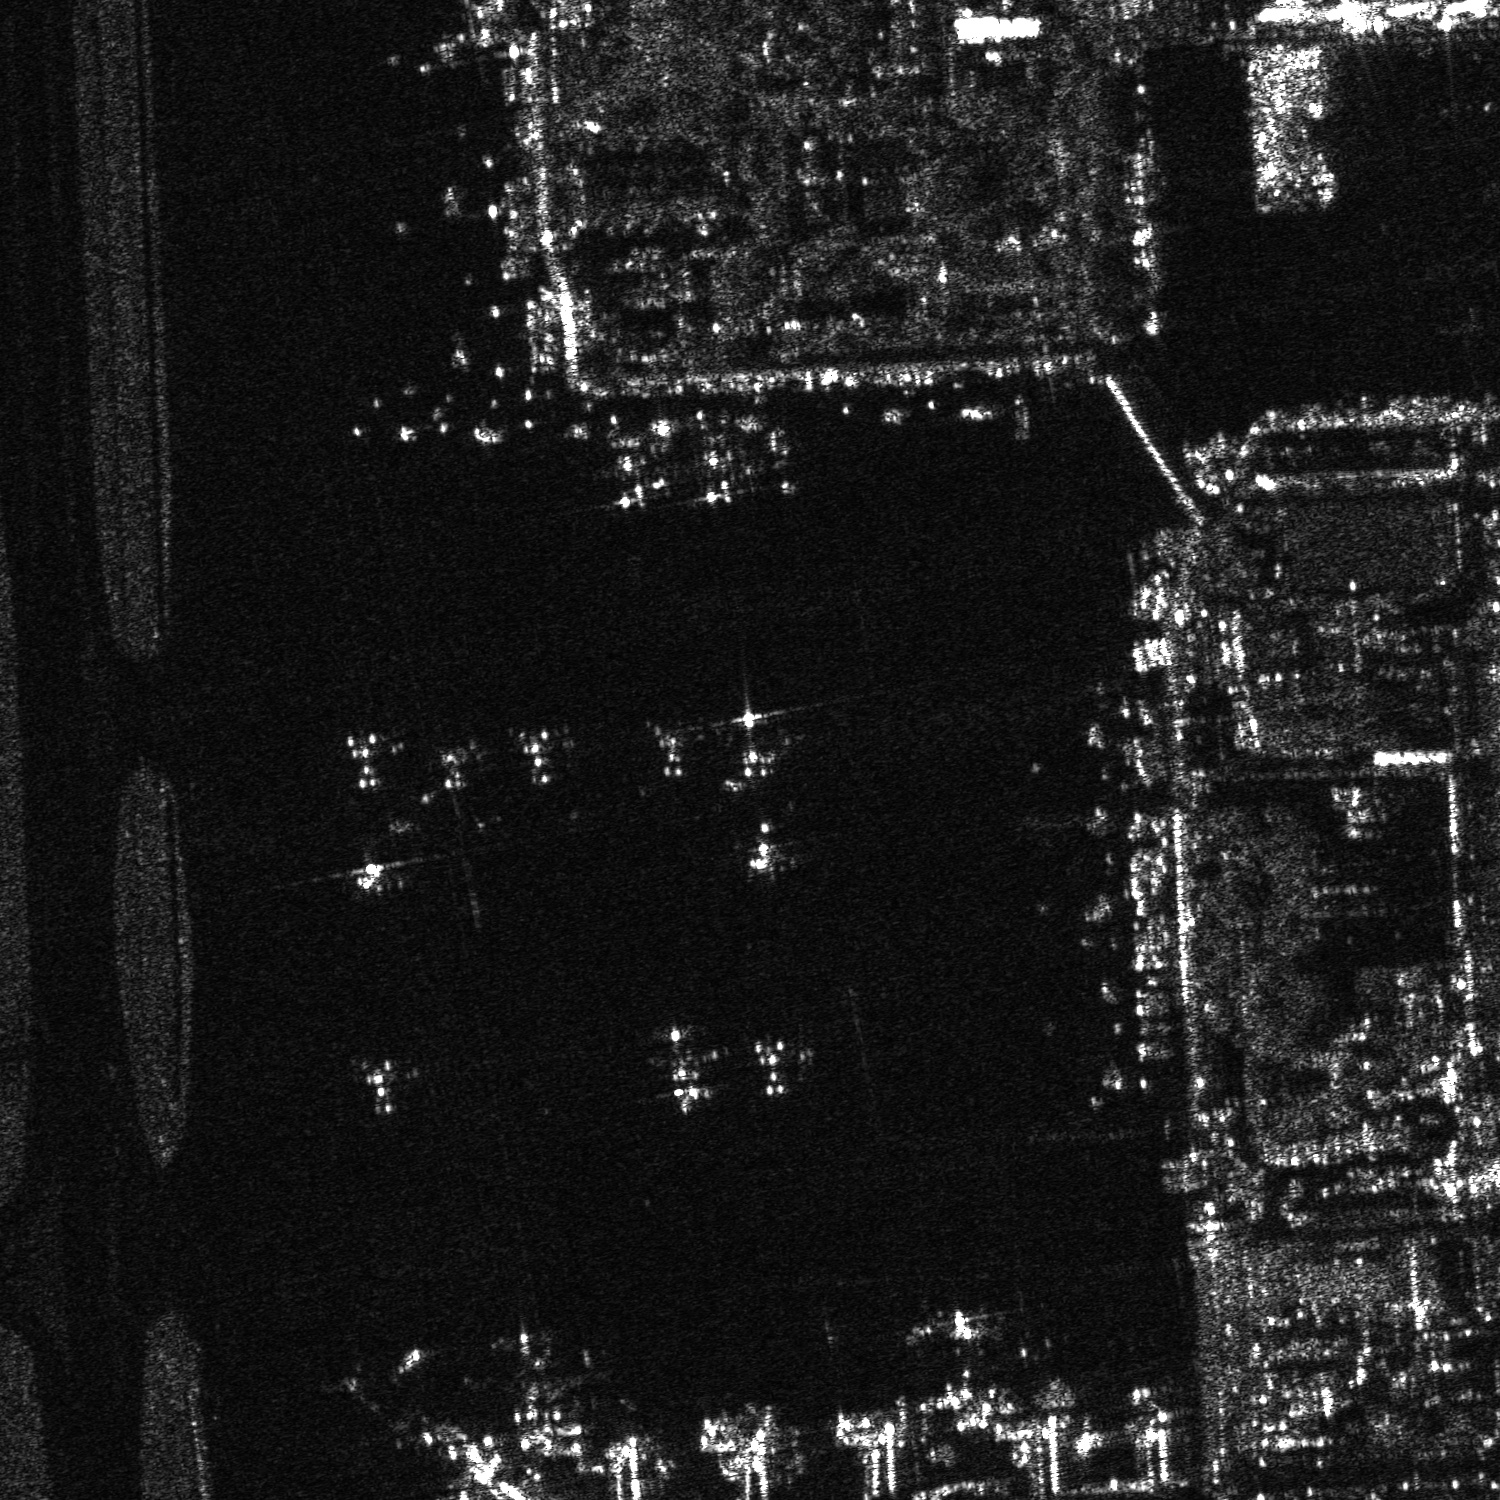A220: (742, 1029, 802, 1103)
ARJ21: (352, 1048, 407, 1124), (740, 815, 793, 886), (757, 413, 799, 495), (348, 848, 402, 894)
Boeing737: (592, 426, 680, 512)
Boeing787: (913, 1295, 996, 1360)
other: (493, 1321, 581, 1457), (639, 1016, 736, 1118), (718, 694, 795, 799), (690, 422, 755, 505), (415, 738, 492, 806), (338, 721, 385, 799), (516, 728, 565, 797), (647, 724, 695, 790)
